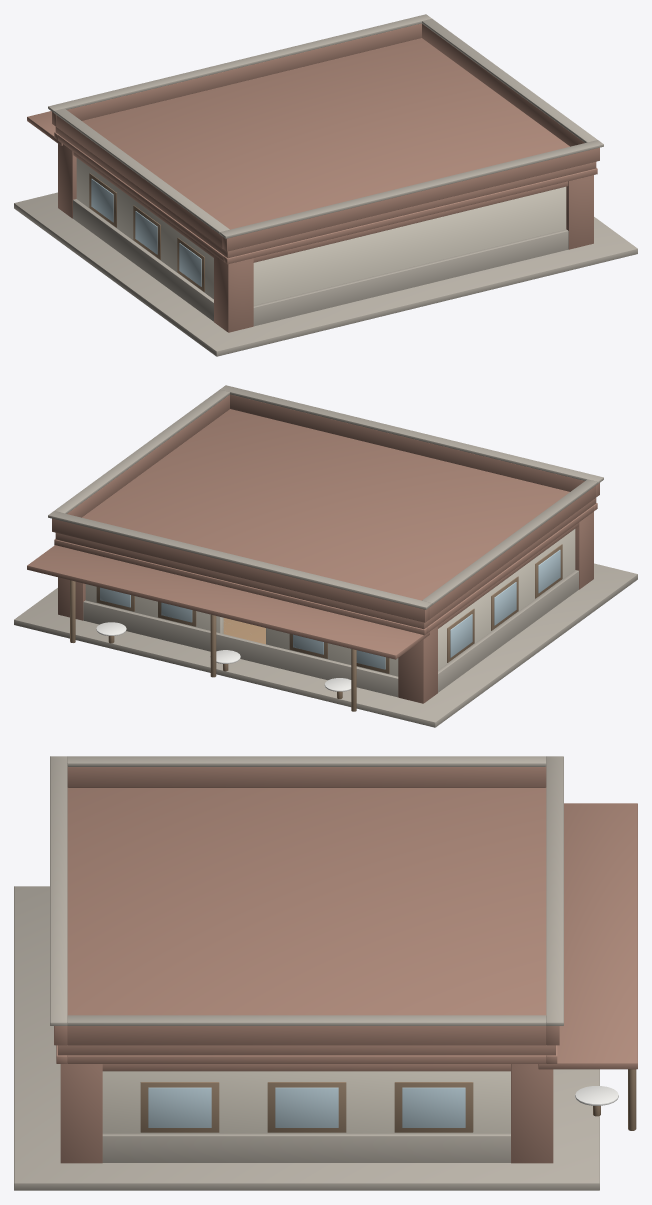
Rendered from th10_restaurant.glb.
3 renders of one model, top to bottom at view 1: azimuth 30°, elevation 25°; view 2: azimuth 150°, elevation 25°; view 3: azimuth 270°, elevation 25°, orthographic. The views are drawn at different scales.
Visible parts, largest first — view 1: Cube.028, Cube, Cube.005, Cube.075, Cube.088, Cube.087, Cube.091, Cube.092, Cube.077, Cube.006, Cube.071, Cube.083 (+13 smaller); view 2: Cube.028, Cube, Cube.029, Cube.076, Cube.087, Cube.088, Cube.092, Cube.091, Cube.077, Cube.006, Cube.084, Cube.090 (+14 smaller); view 3: Cube.028, Cube, Cube.029, Cube.013, Cube.078, Cube.089, Cube.090, Cube.093, Cube.094, Cube.091, Cube.092, Cube.086 (+10 smaller).
Boxes of the visible parts, box(x1,y1,x2,y2) form: Cube.028: box(55, 38, 596, 258); Cube: box(14, 192, 637, 356); Cube.005: box(253, 186, 566, 305); Cube.075: box(253, 229, 568, 326); Cube.088: box(52, 23, 421, 126); Cube.087: box(222, 147, 599, 251); Cube.091: box(220, 140, 603, 238); Cube.092: box(48, 14, 431, 112); Cube.077: box(73, 199, 213, 321); Cube.006: box(76, 158, 213, 299); Cube.071: box(214, 255, 253, 332); Cube.083: box(223, 168, 597, 264); Cube.028: box(55, 409, 596, 629); Cube: box(14, 563, 637, 727); Cube.029: box(27, 545, 429, 659); Cube.076: box(83, 600, 398, 697); Cube.087: box(230, 394, 599, 497); Cube.088: box(52, 518, 429, 622); Cube.092: box(48, 511, 431, 609); Cube.091: box(220, 385, 603, 483); Cube.077: box(438, 570, 578, 692); Cube.006: box(438, 529, 575, 670); Cube.084: box(54, 539, 428, 635); Cube.090: box(67, 395, 229, 517); Cube.028: box(58, 788, 555, 1055); Cube: box(14, 886, 599, 1190); Cube.029: box(538, 803, 637, 1069); Cube.013: box(102, 1071, 510, 1133); Cube.078: box(102, 1133, 510, 1162); Cube.089: box(67, 767, 546, 787); Cube.090: box(67, 1026, 546, 1045); Cube.093: box(67, 756, 546, 766); Cube.094: box(67, 1015, 546, 1025); Cube.091: box(50, 756, 67, 1025); Cube.092: box(546, 756, 563, 1025); Cube.086: box(67, 1055, 546, 1063).
Size of the model in its own units: 24 by 5.77 by 21.3.
